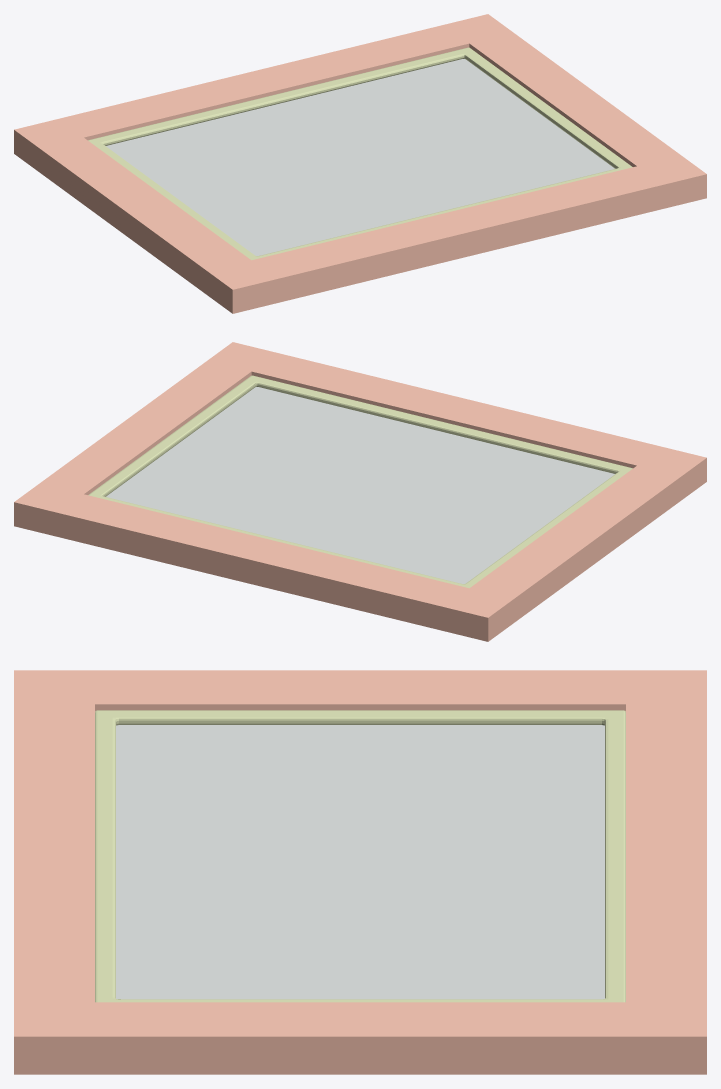
File: broken_photo_frame_1.2.fbx
The picture shows the model from 3 angles, top to bottom: view 1: azimuth 30°, elevation 25°; view 2: azimuth 150°, elevation 25°; view 3: azimuth 270°, elevation 25°; orthographic projection. The views are drawn at different scales.
Parts seen in each view (by area): view 1: Plane, Plane.001, Plane.001_cell.004, Plane_cell, Plane.001_cell.002, Plane_cell.002, Plane.002, Plane_cell.001, Plane_cell.005, Plane_cell.006, Plane_cell.003, Plane.002_cell.006 (+6 smaller); view 2: Plane, Plane.001, Plane.001_cell.004, Plane_cell, Plane.001_cell.002, Plane_cell.002, Plane.002, Plane.001_cell.001, Plane_cell.005, Plane_cell.003, Plane.002_cell.006, Plane.002_cell.008 (+3 smaller); view 3: Plane.001, Plane, Plane.001_cell.004, Plane.001_cell.006, Plane.001_cell.002, Plane_cell, Plane_cell.005, Plane_cell.002, Plane_cell.007, Plane.002, Plane.001_cell.005, Plane.001_cell.001 (+5 smaller).
Boxes of the visible parts, bbox=[...] form: Plane: bbox=[14, 21, 706, 313]; Plane.001: bbox=[125, 59, 614, 255]; Plane.001_cell.004: bbox=[274, 59, 518, 158]; Plane_cell: bbox=[49, 81, 249, 238]; Plane.001_cell.002: bbox=[106, 105, 344, 169]; Plane_cell.002: bbox=[213, 29, 529, 100]; Plane.002: bbox=[103, 55, 632, 260]; Plane_cell.001: bbox=[478, 174, 706, 238]; Plane_cell.005: bbox=[456, 14, 572, 79]; Plane_cell.006: bbox=[291, 230, 478, 293]; Plane_cell.003: bbox=[14, 113, 81, 173]; Plane.002_cell.006: bbox=[423, 47, 564, 124]; Plane: bbox=[14, 342, 706, 641]; Plane.001: bbox=[107, 387, 614, 583]; Plane.001_cell.004: bbox=[108, 460, 365, 543]; Plane_cell: bbox=[290, 512, 614, 620]; Plane.001_cell.002: bbox=[297, 491, 478, 583]; Plane_cell.002: bbox=[70, 454, 302, 585]; Plane.002: bbox=[106, 375, 632, 586]; Plane.001_cell.001: bbox=[405, 500, 528, 572]; Plane_cell.005: bbox=[14, 440, 126, 532]; Plane_cell.003: bbox=[421, 592, 522, 641]; Plane.002_cell.006: bbox=[88, 427, 192, 506]; Plane.002_cell.008: bbox=[346, 558, 501, 588]; Plane.001: bbox=[116, 725, 604, 999]; Plane: bbox=[14, 670, 706, 1074]; Plane.001_cell.004: bbox=[376, 857, 604, 999]; Plane.001_cell.006: bbox=[116, 837, 406, 999]; Plane.001_cell.002: bbox=[354, 725, 604, 858]; Plane_cell: bbox=[297, 670, 706, 832]; Plane_cell.005: bbox=[437, 1002, 706, 1074]; Plane_cell.002: bbox=[459, 824, 706, 1008]; Plane_cell.007: bbox=[14, 938, 442, 1074]; Plane.002: bbox=[95, 710, 625, 1002]; Plane.001_cell.005: bbox=[200, 960, 429, 999]; Plane.001_cell.001: bbox=[364, 725, 548, 831].
Bounding box in the file's own units: 250 × 12.16 × 200.
